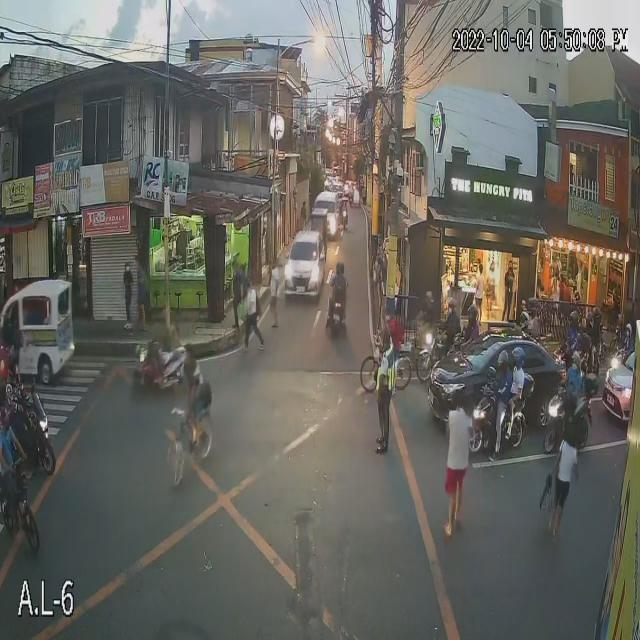helmet: (5, 354, 21, 381), (496, 348, 510, 378), (523, 299, 545, 317), (443, 299, 460, 321), (148, 307, 164, 329), (510, 347, 524, 370), (468, 305, 481, 325), (584, 312, 596, 332), (568, 313, 580, 332), (571, 351, 581, 373), (333, 261, 345, 278), (592, 307, 601, 325), (624, 323, 632, 340)
motorcycle: (7, 395, 56, 474), (470, 386, 526, 452), (543, 385, 591, 452), (134, 343, 199, 389), (415, 341, 451, 381), (553, 343, 594, 375), (326, 291, 347, 336)
rider: (490, 347, 511, 454), (6, 352, 31, 433), (507, 345, 528, 438), (144, 305, 167, 381), (327, 260, 348, 323), (566, 351, 583, 427), (436, 298, 459, 351), (523, 298, 545, 339), (562, 311, 581, 358), (162, 310, 179, 362), (460, 305, 478, 344), (619, 321, 635, 359), (593, 305, 604, 348), (582, 309, 593, 350)
